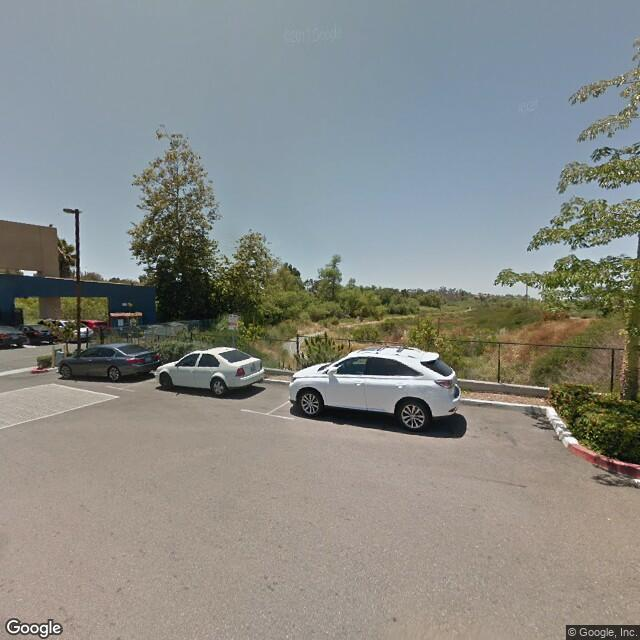litter: (632, 477, 640, 485), (540, 397, 546, 405)
